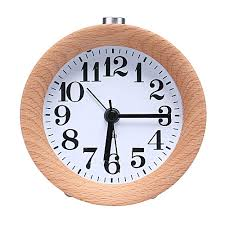alarm_clock: (17, 16, 206, 204), (21, 16, 206, 204)
